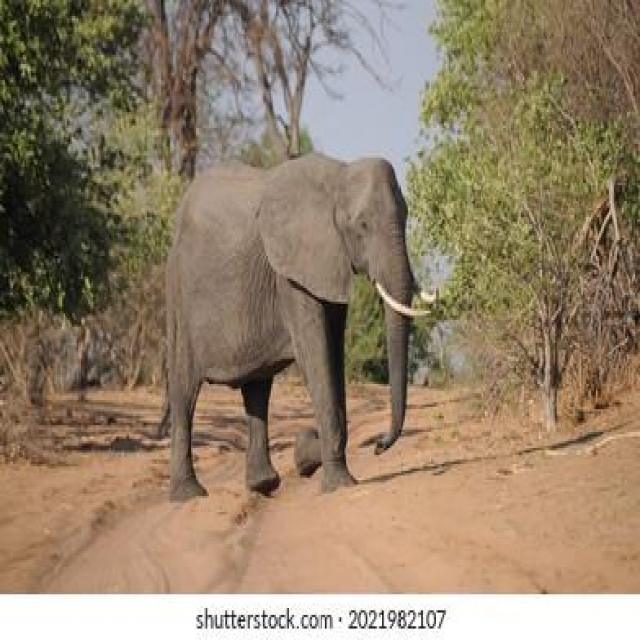Elephant: (147, 137, 433, 507)
